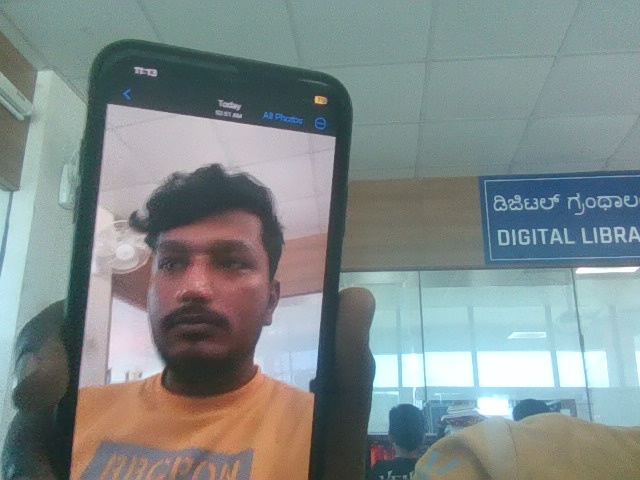fake: (126, 146, 295, 385)
